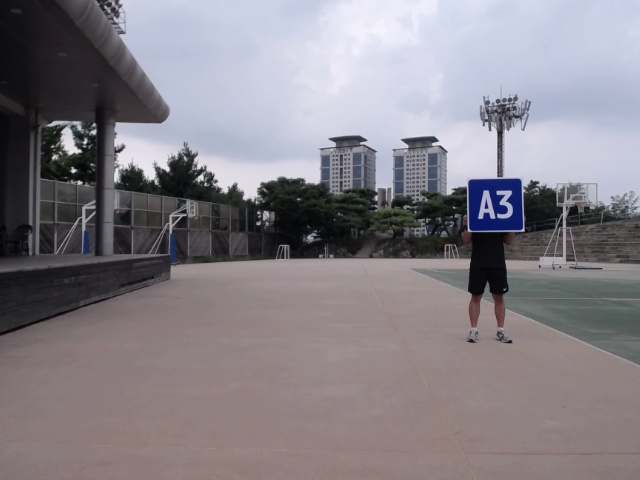delivery_a3: (468, 178, 525, 232)
